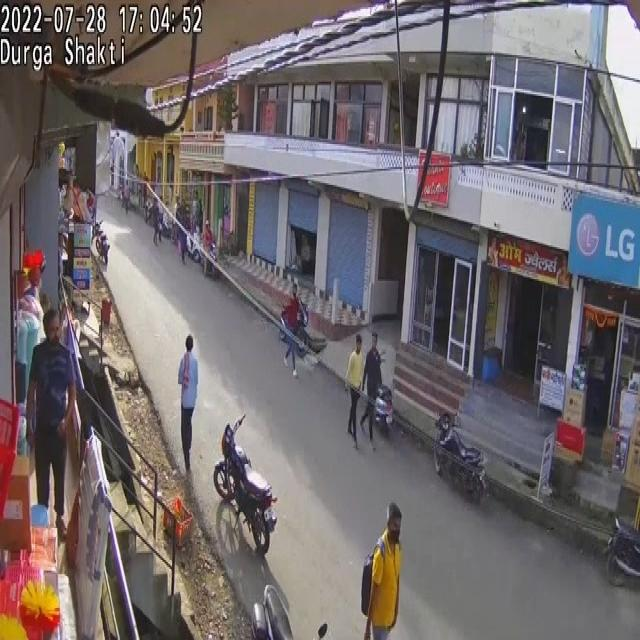non-fight: (26, 304, 77, 536), (365, 501, 403, 639), (15, 256, 45, 421), (178, 334, 198, 472), (359, 334, 383, 444), (344, 334, 364, 445), (282, 286, 304, 376), (175, 204, 188, 264), (153, 201, 163, 245), (192, 196, 201, 233)
